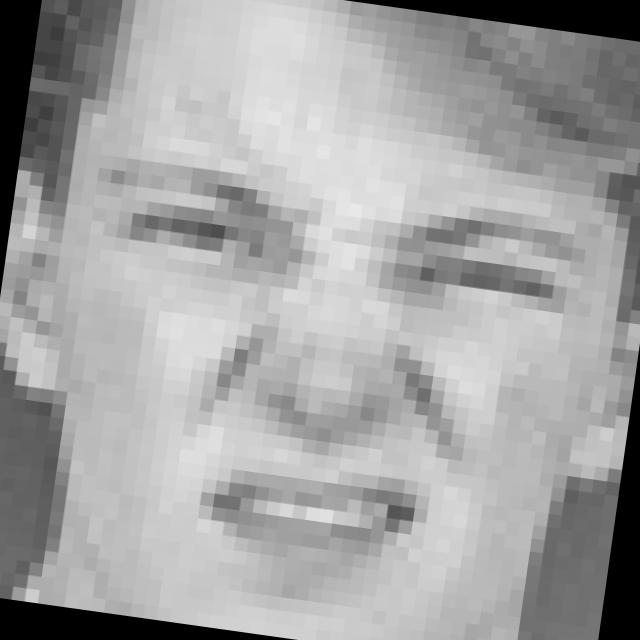disgust: (45, 153, 592, 618)
